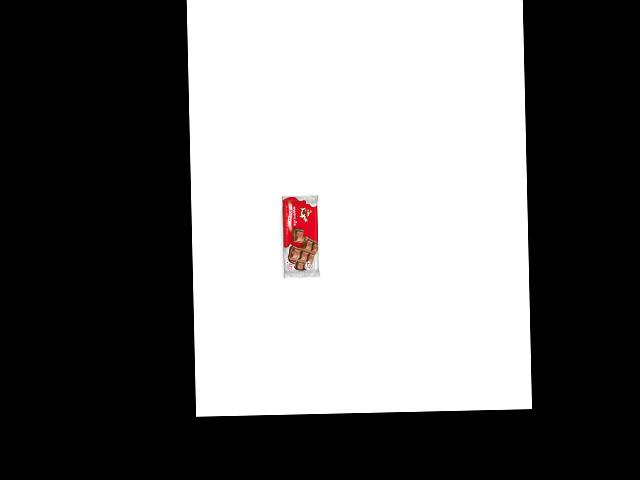chocolate: (281, 194, 320, 280)
